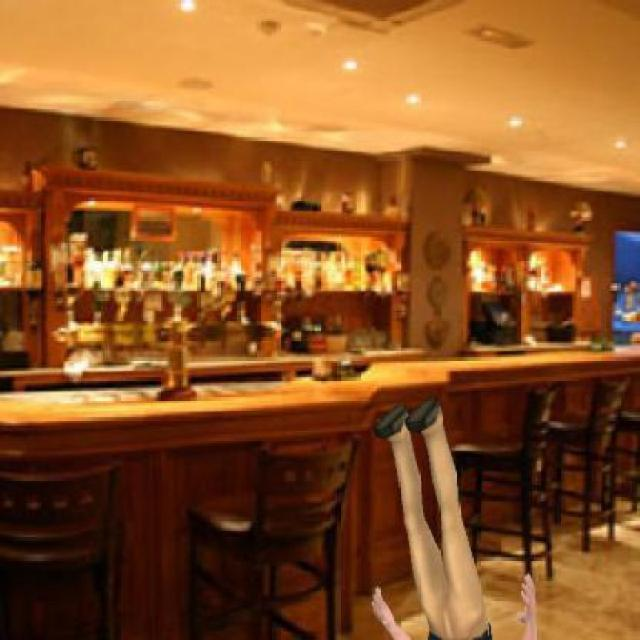Person: (363, 400, 542, 638)
